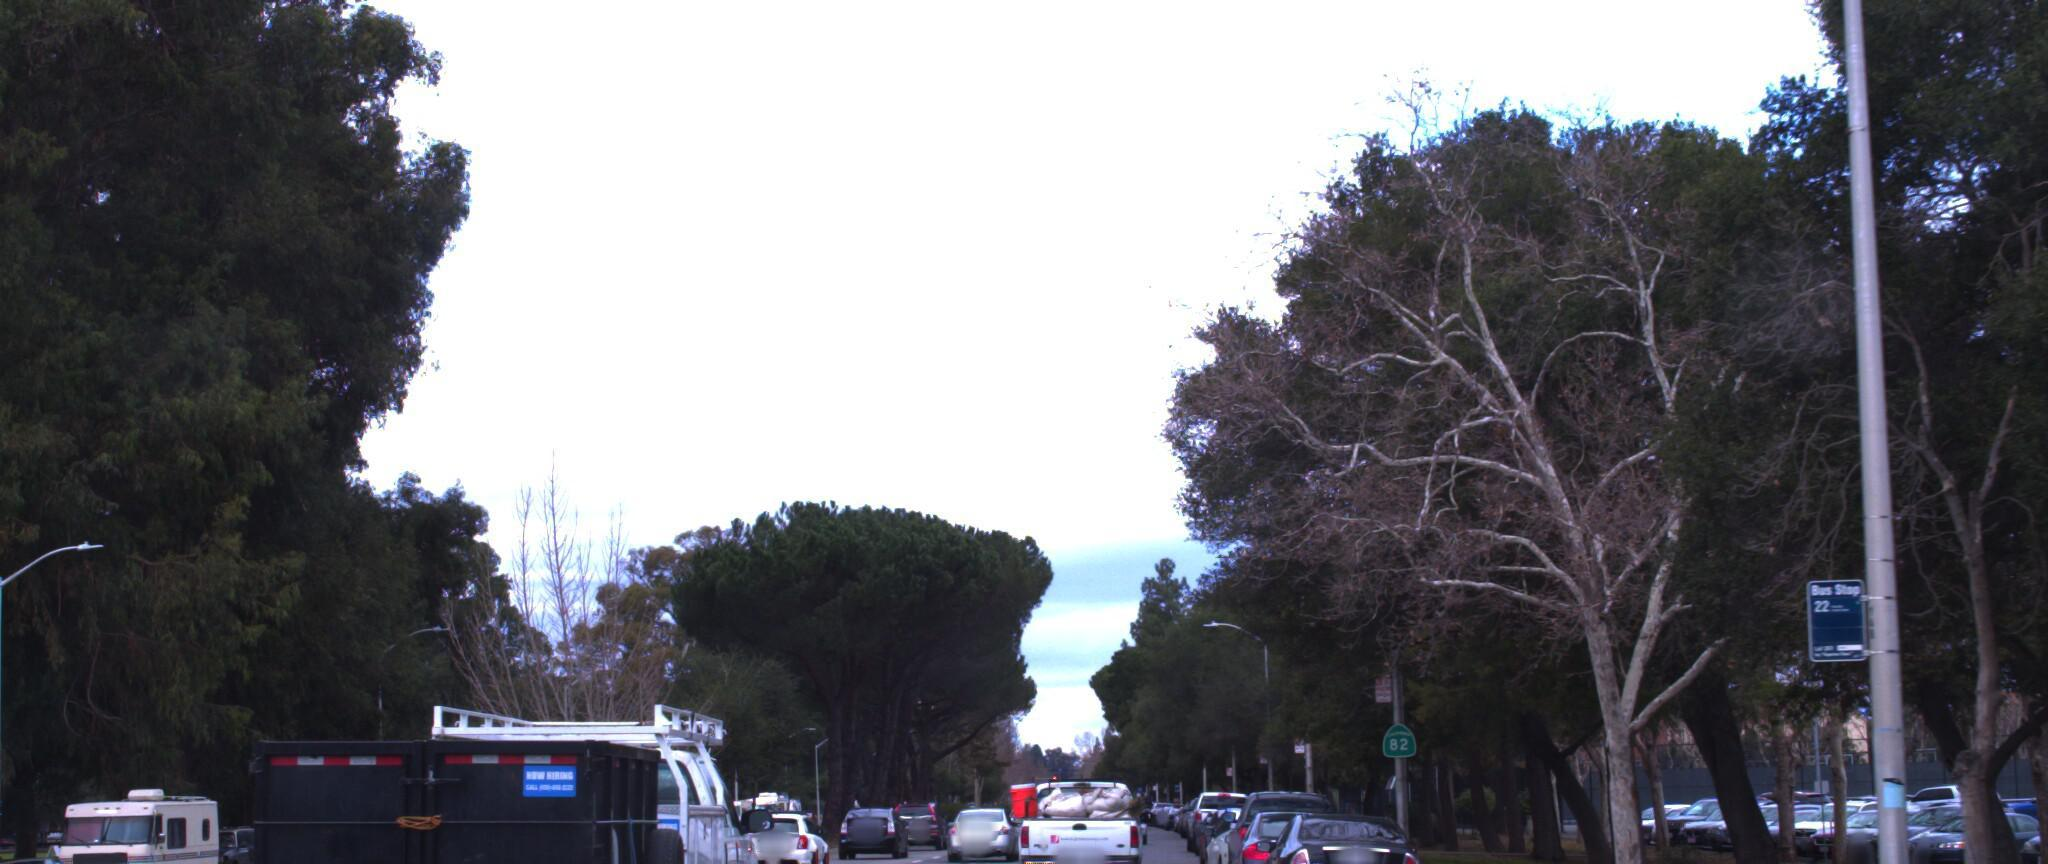car: (212, 647, 797, 864), (995, 752, 1138, 864), (1238, 786, 1432, 864), (1219, 786, 1348, 864), (743, 784, 835, 855), (938, 780, 1021, 843), (0, 830, 91, 864)
other_vehicle: (51, 769, 240, 864)
